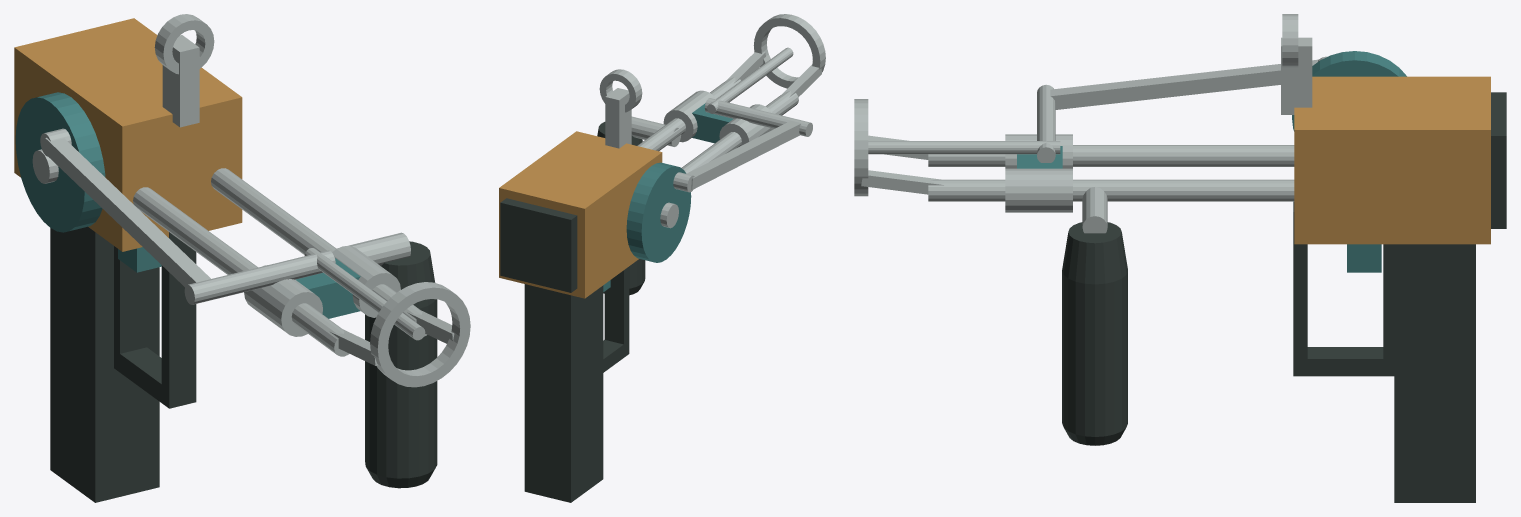
3 views of the same model, side by side, from view 1: azimuth 30°, elevation 25°; view 2: azimuth 150°, elevation 25°; view 3: azimuth 270°, elevation 25° (orthographic). The views are drawn at different scales.
Visible parts, largest first — view 1: WholeRearDriveCase, WholeGroundFootRearGrip, WholeLateralAuxiliaryGrip, WholeOpenTriggerGuard, WholeFixedRoundCam, WholeExternalFixedConnectingLink, WholeOpenCircularFrontFoot, WholeContinuousForwardGuide_0, WholeContinuousForwardGuide_1, WholeCarrierLinkCrossPin, WholeGuideEyeStem, WholeActualBoredCarrierSleeve_0 (+9 smaller); view 2: WholeGroundFootRearGrip, WholeRearDriveCase, WholePlainRearCap, WholeFixedRoundCam, WholeOpenTriggerGuard, WholeExternalFixedConnectingLink, WholeOpenCircularFrontFoot, WholeGuideEyeStem, WholeContinuousForwardGuide_0, WholeCarrierLinkCrossPin, WholeCentralBluntDisplayRod, WholeContinuousForwardGuide_1 (+9 smaller); view 3: WholeRearDriveCase, WholeGroundFootRearGrip, WholeLateralAuxiliaryGrip, WholeContinuousForwardGuide_1, WholeOpenTriggerGuard, WholeContinuousForwardGuide_0, WholeExternalFixedConnectingLink, WholeActualBoredCarrierSleeve_1, WholeCentralBluntDisplayRod, WholePlainRearCap, WholeFixedRoundCam, WholeGuideEyeStem (+7 smaller).
Boxes of the visible parts, x1,y1,x2,y2 form: WholeRearDriveCase: [14, 18, 242, 251]; WholeGroundFootRearGrip: [50, 226, 159, 502]; WholeLateralAuxiliaryGrip: [365, 241, 437, 488]; WholeOpenTriggerGuard: [114, 232, 196, 408]; WholeFixedRoundCam: [15, 92, 105, 232]; WholeExternalFixedConnectingLink: [44, 137, 210, 286]; WholeOpenCircularFrontFoot: [370, 282, 470, 387]; WholeContinuousForwardGuide_0: [133, 187, 349, 356]; WholeContinuousForwardGuide_1: [211, 168, 426, 336]; WholeCarrierLinkCrossPin: [184, 250, 335, 304]; WholeGuideEyeStem: [162, 35, 199, 127]; WholeActualBoredCarrierSleeve_0: [244, 265, 322, 336]; WholeGroundFootRearGrip: [524, 284, 603, 502]; WholeRearDriveCase: [499, 131, 662, 298]; WholePlainRearCap: [500, 198, 577, 292]; WholeFixedRoundCam: [626, 162, 691, 262]; WholeOpenTriggerGuard: [603, 266, 629, 372]; WholeExternalFixedConnectingLink: [686, 121, 800, 189]; WholeOpenCircularFrontFoot: [753, 14, 825, 88]; WholeGuideEyeStem: [605, 88, 631, 148]; WholeContinuousForwardGuide_0: [681, 90, 798, 173]; WholeCarrierLinkCrossPin: [704, 98, 812, 136]; WholeCentralBluntDisplayRod: [707, 47, 793, 113]; WholeContinuousForwardGuide_1: [637, 77, 740, 151]; WholeRearDriveCase: [1294, 76, 1490, 244]; WholeGroundFootRearGrip: [1394, 244, 1475, 502]; WholeLateralAuxiliaryGrip: [1062, 222, 1127, 445]; WholeContinuousForwardGuide_1: [928, 179, 1294, 201]; WholeOpenTriggerGuard: [1293, 201, 1394, 376]; WholeContinuousForwardGuide_0: [928, 145, 1294, 166]; WholeExternalFixedConnectingLink: [1050, 59, 1317, 109]; WholeActualBoredCarrierSleeve_1: [1005, 168, 1072, 212]; WholeCentralBluntDisplayRod: [868, 141, 1060, 154]; WholePlainRearCap: [1491, 92, 1506, 228]; WholeFixedRoundCam: [1292, 51, 1406, 131]; WholeGuideEyeStem: [1281, 37, 1312, 114].
Size of the model in its own units: 0.18 by 0.331 by 0.4145.
